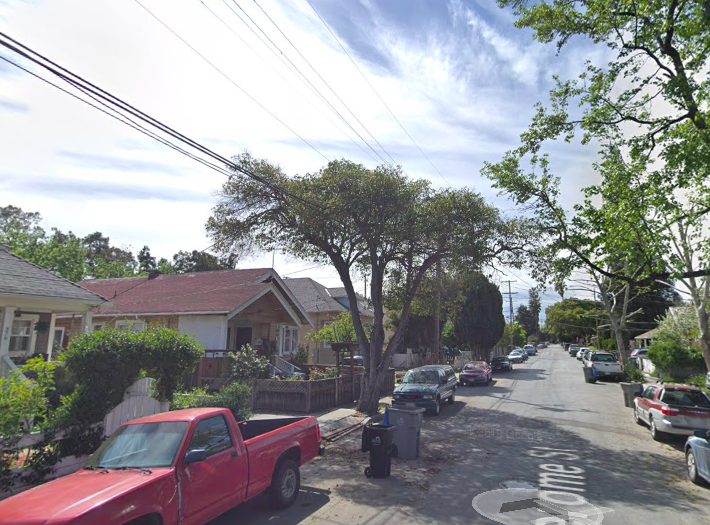tree: (207, 143, 541, 417)
